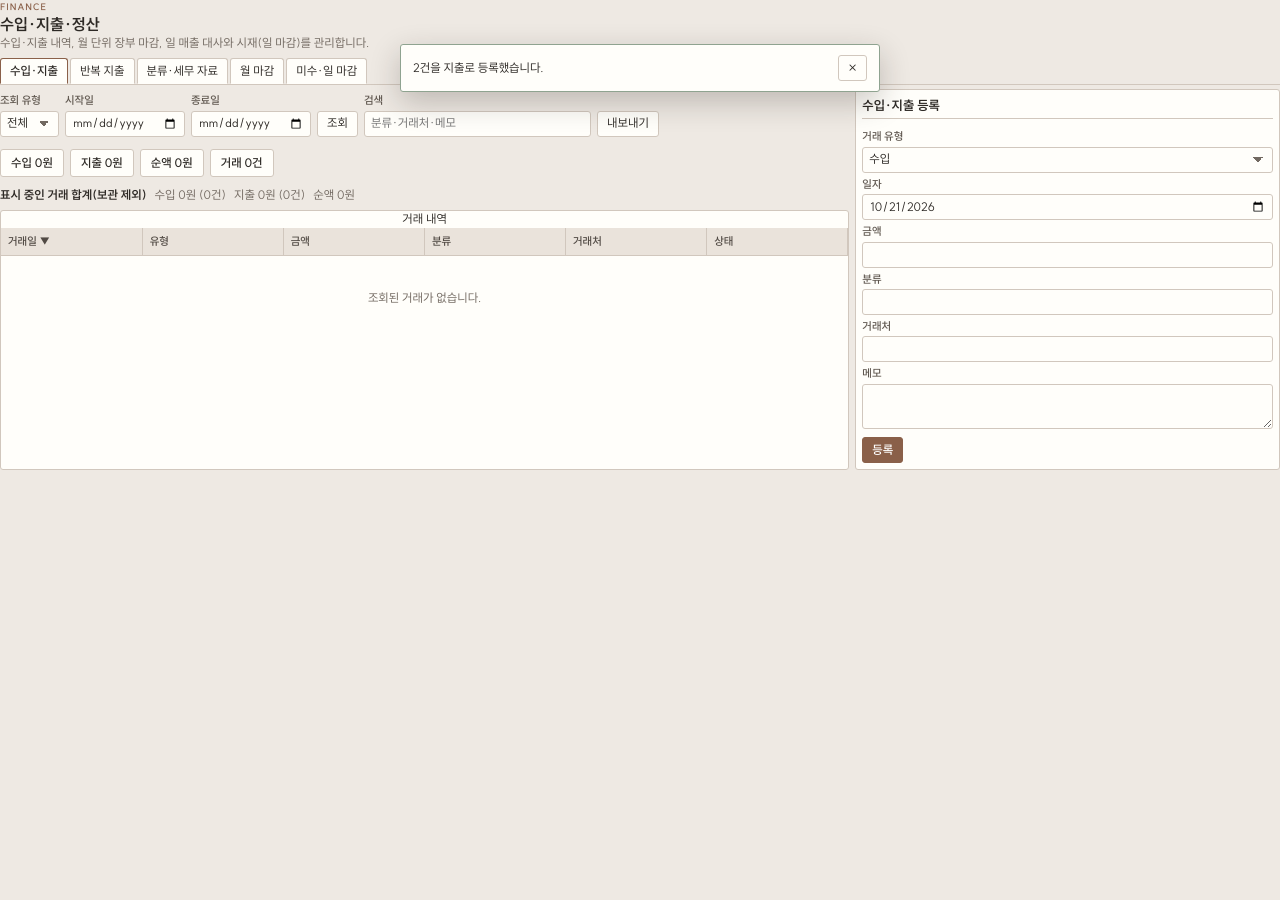
RecurringPanel 반복 지출(FIN-11) › 마감된 달이면 서버 안내를 그대로 보이고 입력은 유지된다
Click the tab "반복 지출": {"x": 102, "y": 71} x1=70 y1=58 x2=135 y2=84
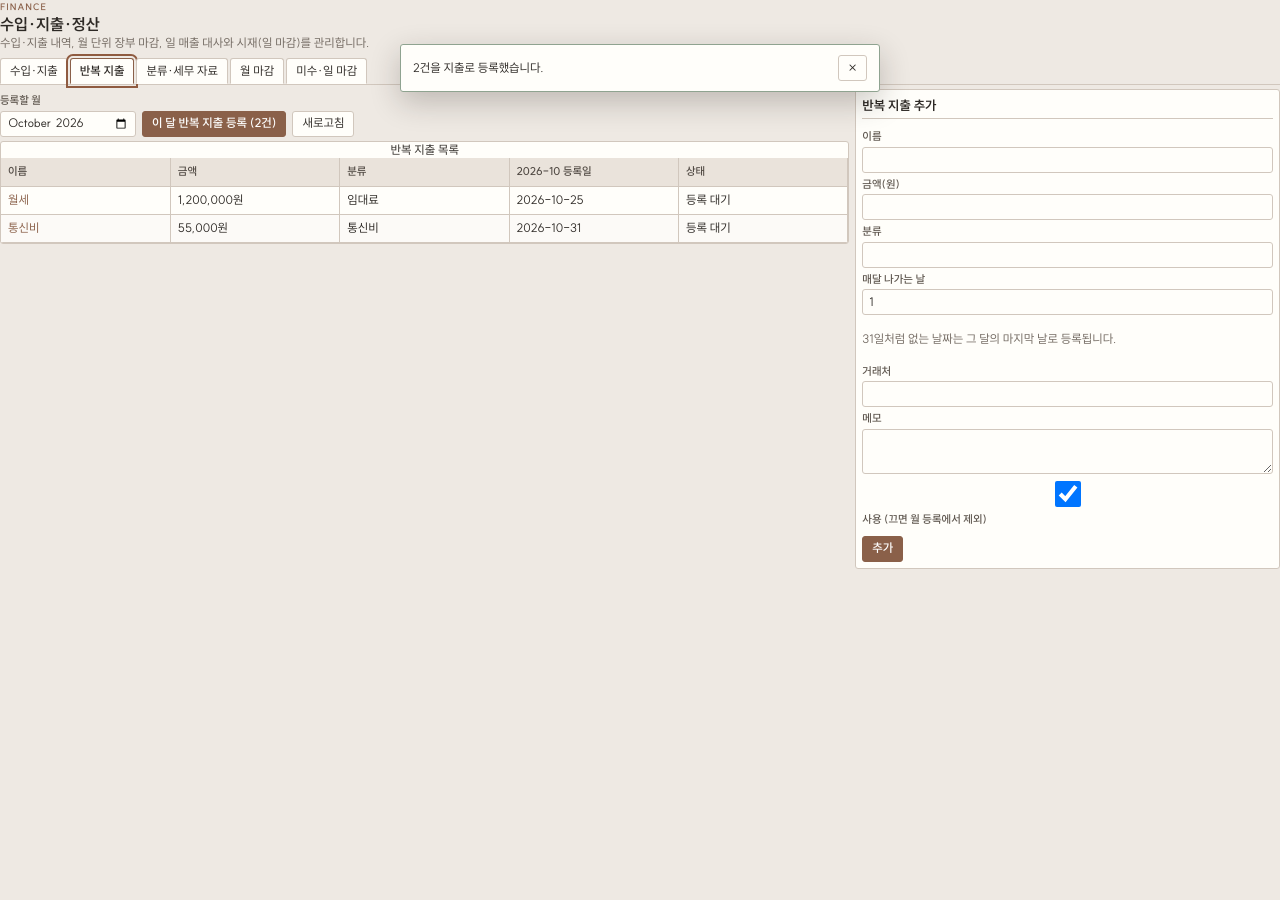
Now the table "반복 지출 목록" is shown, box x1=1 y1=142 x2=848 y2=243
Click the button "이 달 반복 지출 등록 (2건)": {"x": 214, "y": 124} x1=142 y1=111 x2=286 y2=137
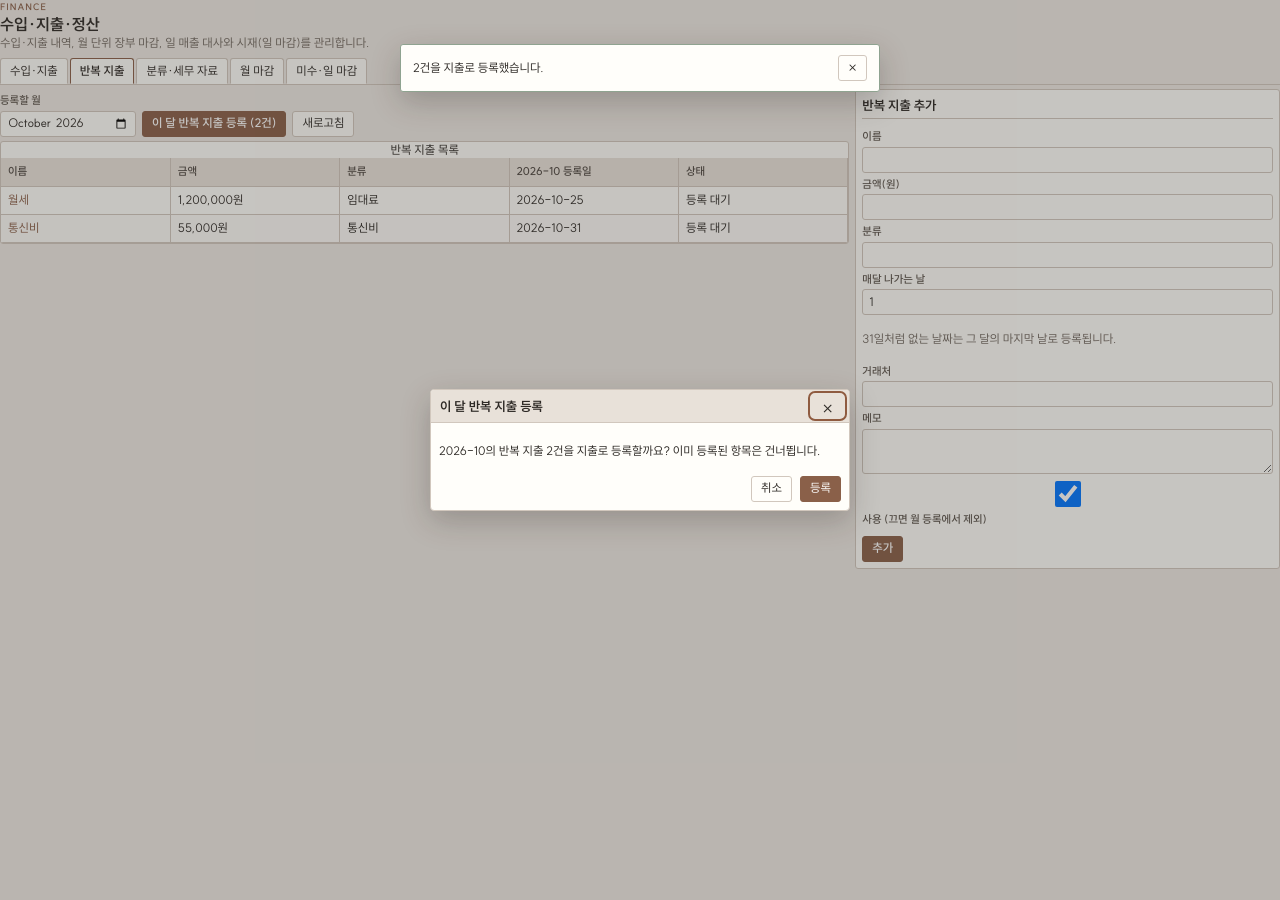
Click the button "등록": {"x": 820, "y": 489} x1=800 y1=476 x2=841 y2=502
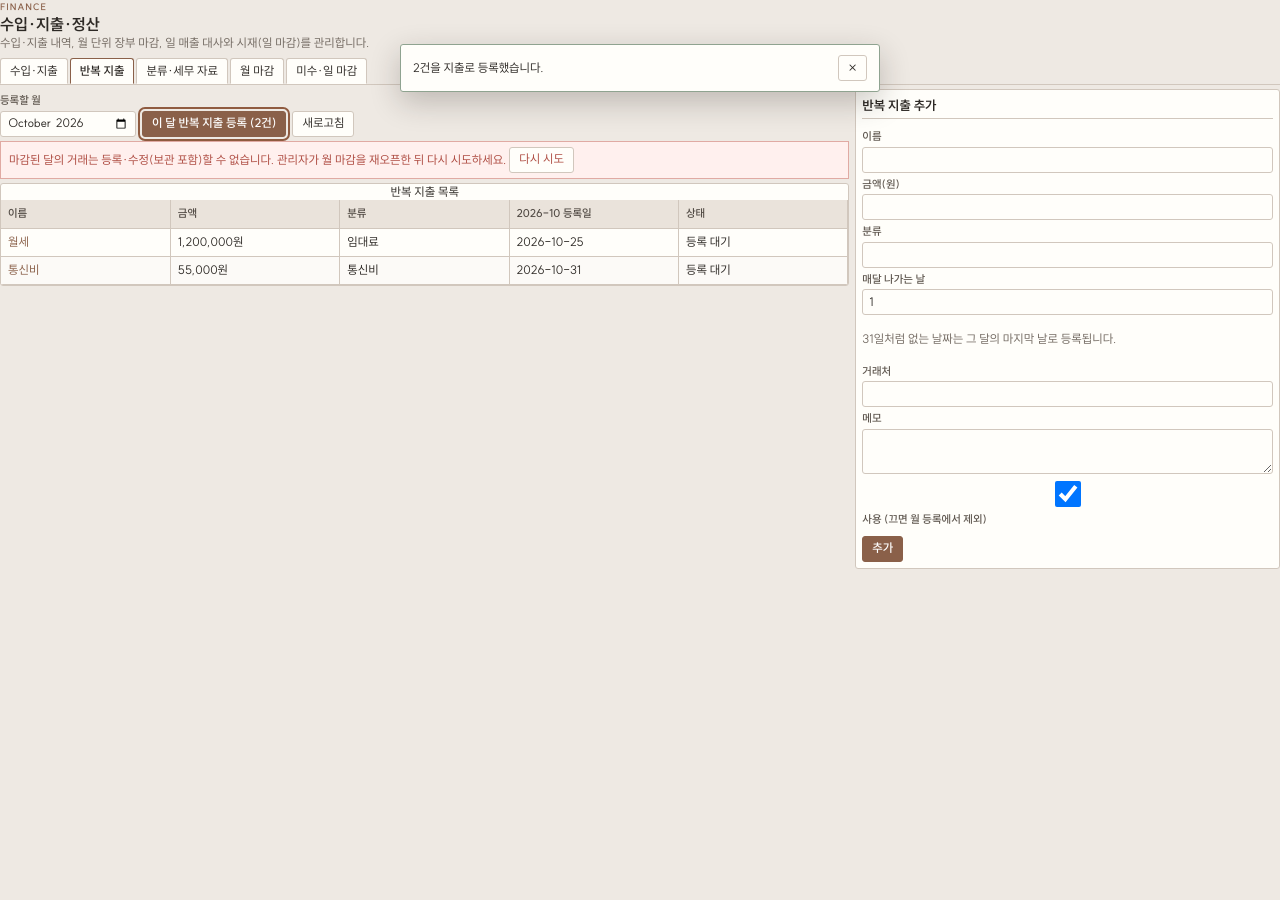
Now the message "마감된 달의 거래는 등록·수정(보관 포함)할 수 없습니다. 관리자가 월 마감을 재오픈한 뒤 다시 시도하세요. 다시 시도" is shown, box x1=0 y1=141 x2=849 y2=179
